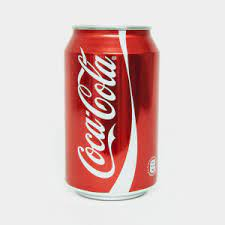metal: (62, 24, 160, 201)
